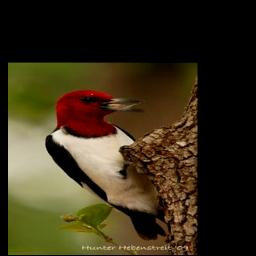Woodpecker: (44, 89, 166, 240)
